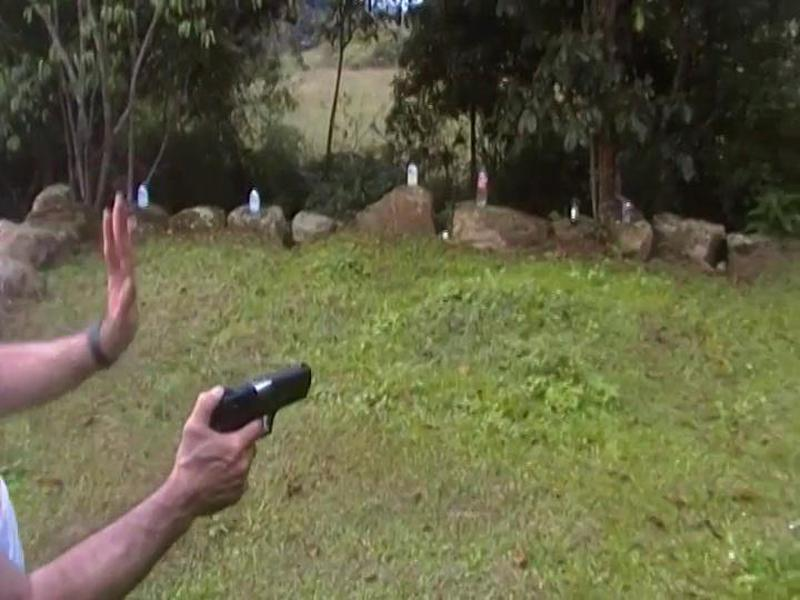Pistola: (191, 359, 327, 446)
